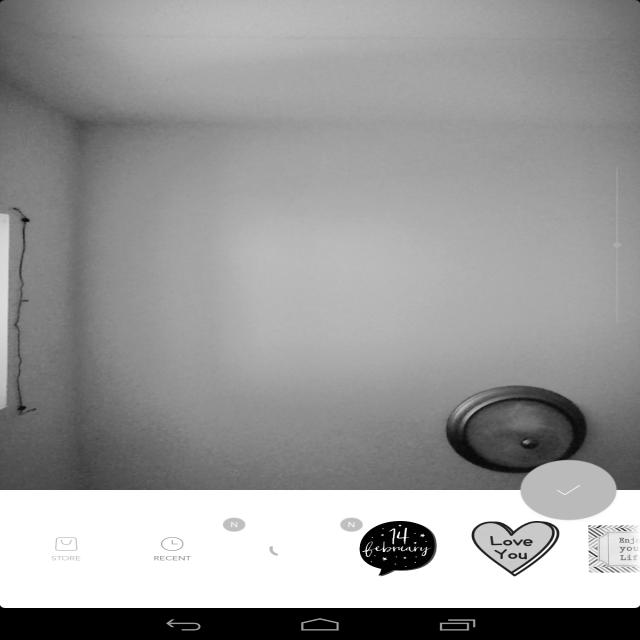ImageView: (0, 0, 640, 608), (0, 0, 640, 533), (510, 453, 627, 527), (277, 543, 363, 608), (472, 521, 560, 576), (192, 490, 282, 543), (370, 490, 460, 543), (15, 490, 104, 543), (282, 490, 371, 543), (460, 490, 549, 543), (104, 490, 192, 543), (548, 490, 632, 543), (359, 521, 437, 576), (237, 524, 326, 572), (556, 3, 640, 40), (0, 3, 83, 40), (588, 525, 640, 573), (522, 490, 532, 543), (340, 508, 363, 527), (223, 508, 245, 527), (466, 544, 488, 562)
SeekBar: (598, 145, 636, 345)
TextView: (389, 560, 502, 591), (138, 560, 250, 591), (502, 560, 614, 591), (27, 560, 138, 591), (133, 536, 212, 562), (51, 536, 82, 562), (0, 474, 21, 490), (96, 554, 122, 566)
